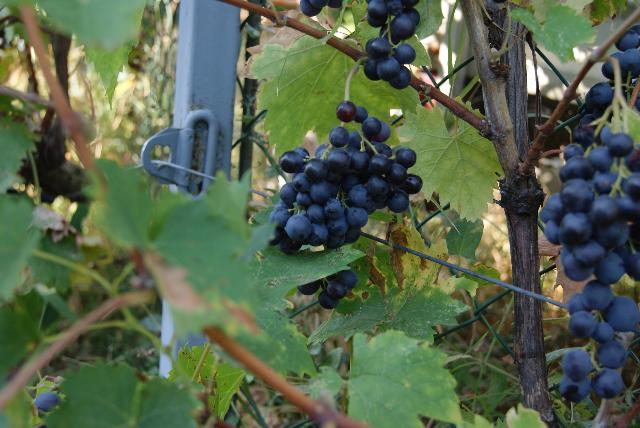grapes: (541, 130, 640, 402), (269, 101, 422, 254)
